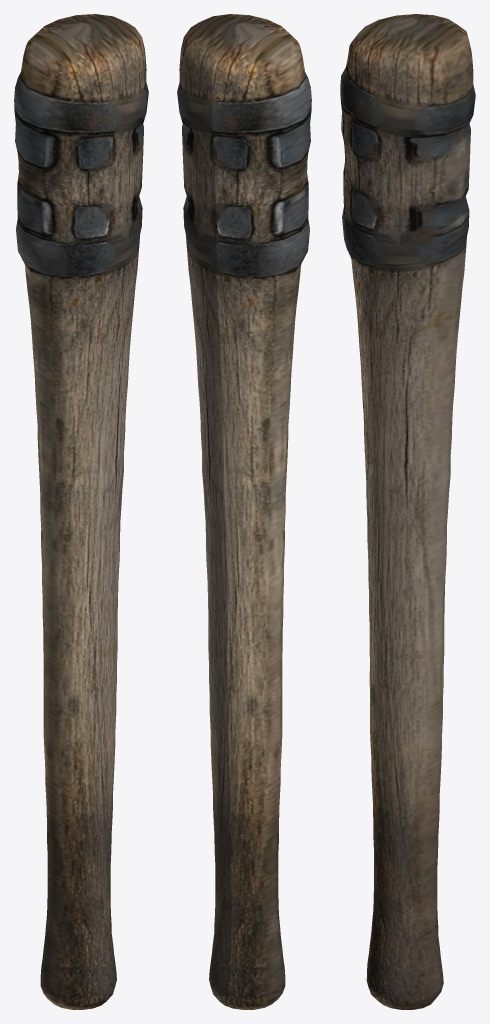
The model's file is club_ironbound_p1_w1.glb.
The picture shows the model from 3 angles, left to right: view 1: azimuth 30°, elevation 25°; view 2: azimuth 150°, elevation 25°; view 3: azimuth 330°, elevation 25°; orthographic projection.
Parts seen in each view (by area): view 1: club_ironbound_p1_w1; view 2: club_ironbound_p1_w1; view 3: club_ironbound_p1_w1.
Part boxes in pixels (x1=…): club_ironbound_p1_w1: x1=14, y1=14, x2=148, y2=1009; club_ironbound_p1_w1: x1=177, y1=14, x2=311, y2=1009; club_ironbound_p1_w1: x1=340, y1=14, x2=475, y2=1009.
Size of the model in its own units: 0.1017 by 0.8052 by 0.0963.
Materials: 1 (1 with a texture image).
